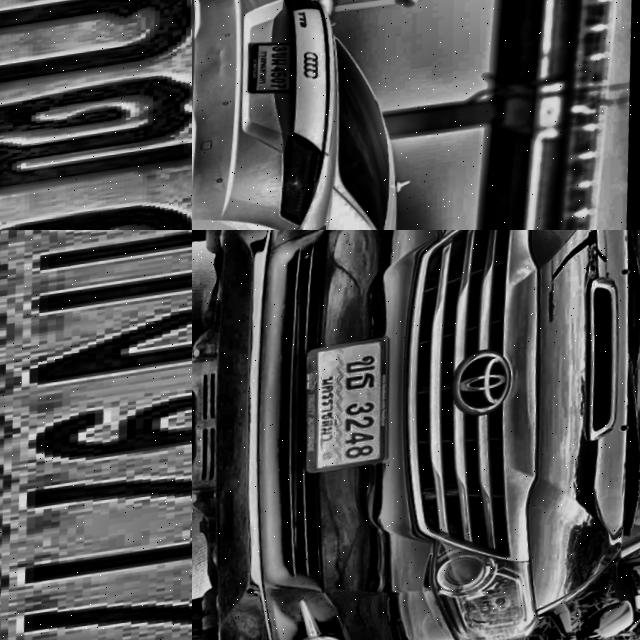license-plate: (0, 230, 192, 640), (0, 0, 192, 230), (298, 341, 399, 484), (244, 41, 301, 107)
